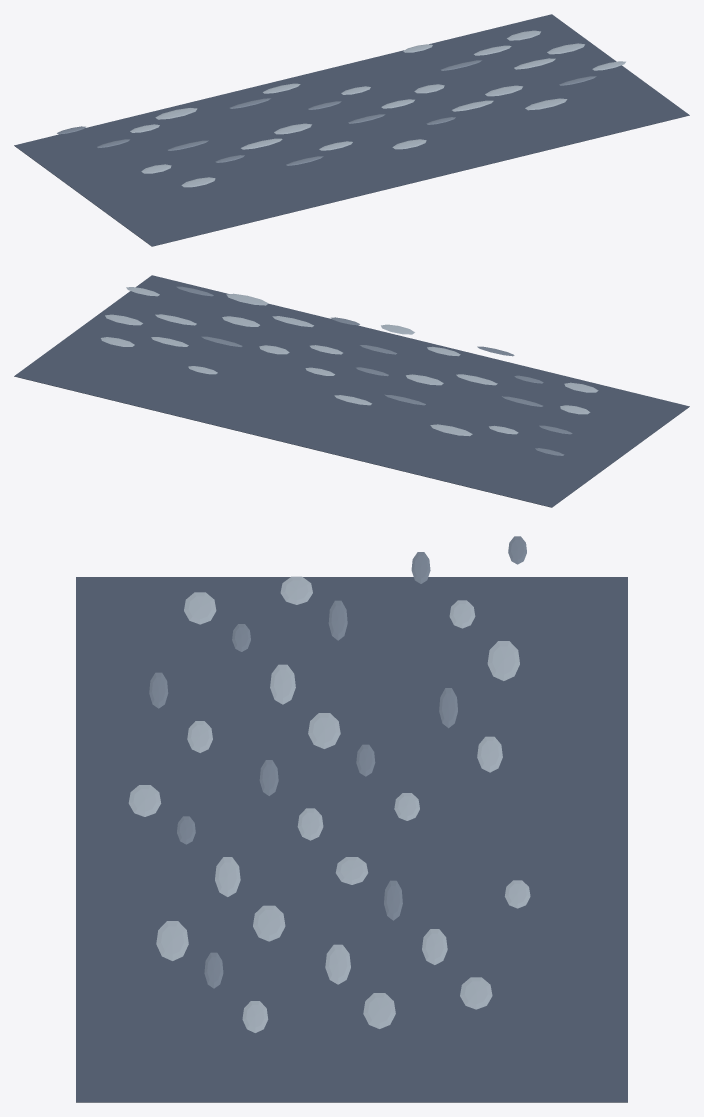
The model's file is niebla_abismo.glb.
3 views of the same model, one above another, from view 1: azimuth 30°, elevation 25°; view 2: azimuth 150°, elevation 25°; view 3: azimuth 270°, elevation 25° (orthographic). The views are drawn at different scales.
Visible parts, largest first — view 1: niebla_abismo; view 2: niebla_abismo; view 3: niebla_abismo.
Part boxes in pixels (left/top/right/bottom): niebla_abismo: left=14, top=14, right=689, bottom=246; niebla_abismo: left=14, top=275, right=689, bottom=507; niebla_abismo: left=76, top=536, right=627, bottom=1102.
Bounding box in the file's own units: 90 × 4.58 × 40.
